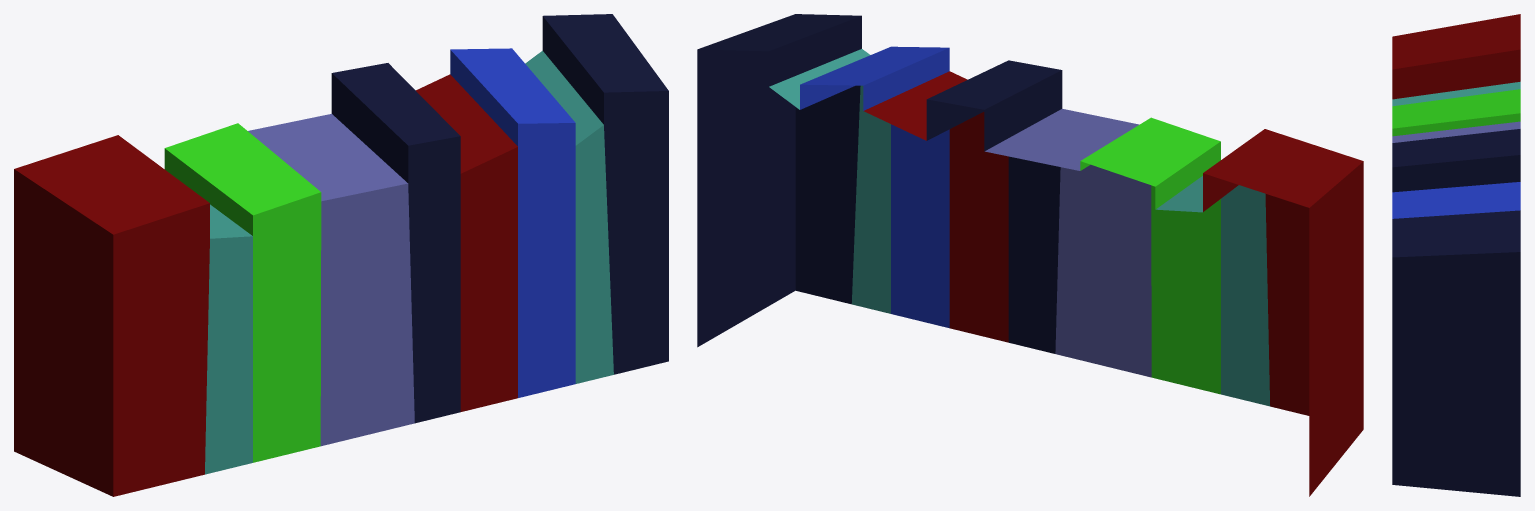
File: MDL_Libros.FBX
3 views of the same model, side by side, from view 1: azimuth 30°, elevation 25°; view 2: azimuth 150°, elevation 25°; view 3: azimuth 270°, elevation 25° (orthographic). The views are drawn at different scales.
Parts seen in each view (by area): view 1: Plane007; view 2: Plane007; view 3: Plane007.
Boxes of the visible parts, <box> form: Plane007: <box>14,14,668,496</box>; Plane007: <box>697,14,1363,496</box>; Plane007: <box>1392,14,1520,496</box>.
Size of the model in its own units: 24.91 by 12.2 by 5.49.
